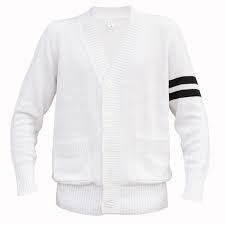S_cardigan sweater: (9, 9, 225, 224)
